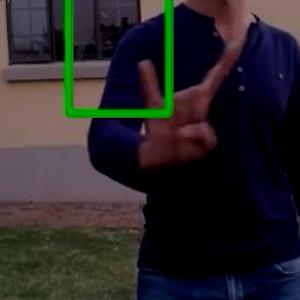takeoff-hand: (131, 21, 243, 186)
